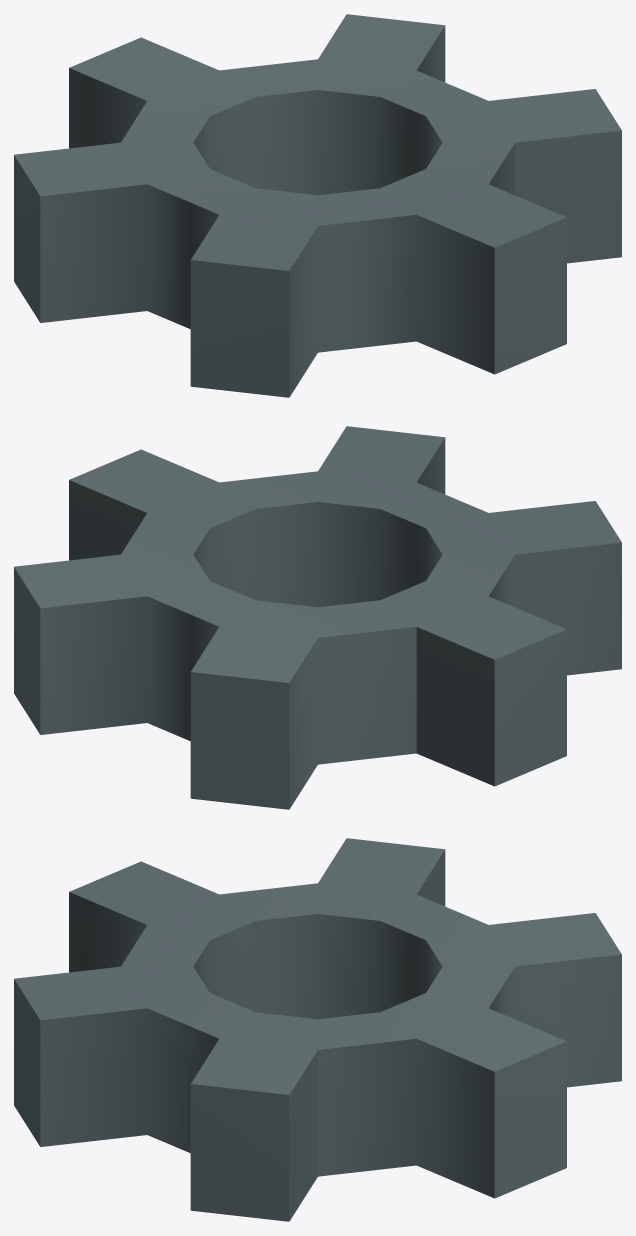
The model's file is Gear.fbx.
3 renders of one model, top to bottom at view 1: azimuth 30°, elevation 25°; view 2: azimuth 150°, elevation 25°; view 3: azimuth 270°, elevation 25°, orthographic.
Parts seen in each view (by area): view 1: Gear; view 2: Gear; view 3: Gear.
Part boxes in pixels (left/top/right/bottom): Gear: left=14, top=14, right=621, bottom=397; Gear: left=14, top=426, right=621, bottom=809; Gear: left=14, top=838, right=621, bottom=1221.
Size of the model in its own units: 43.24 by 9.95 by 43.24.
